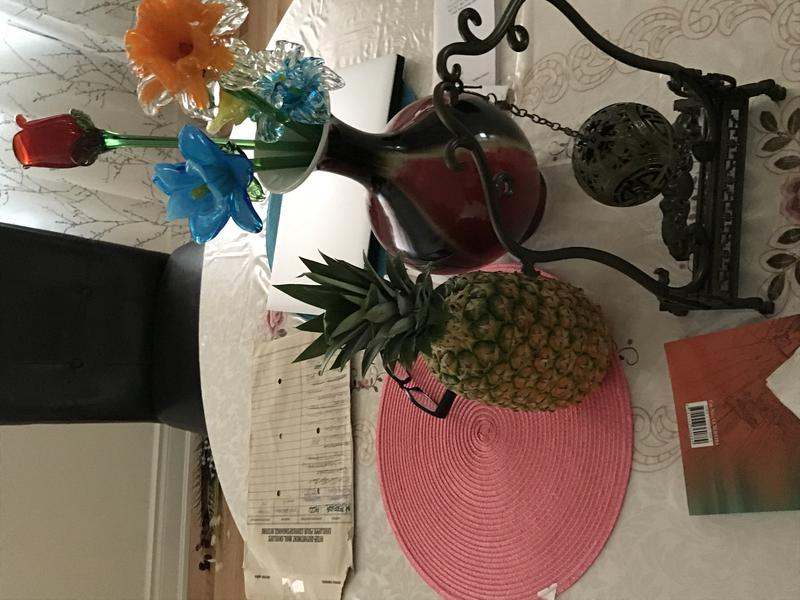pineapple: (272, 233, 619, 422)
